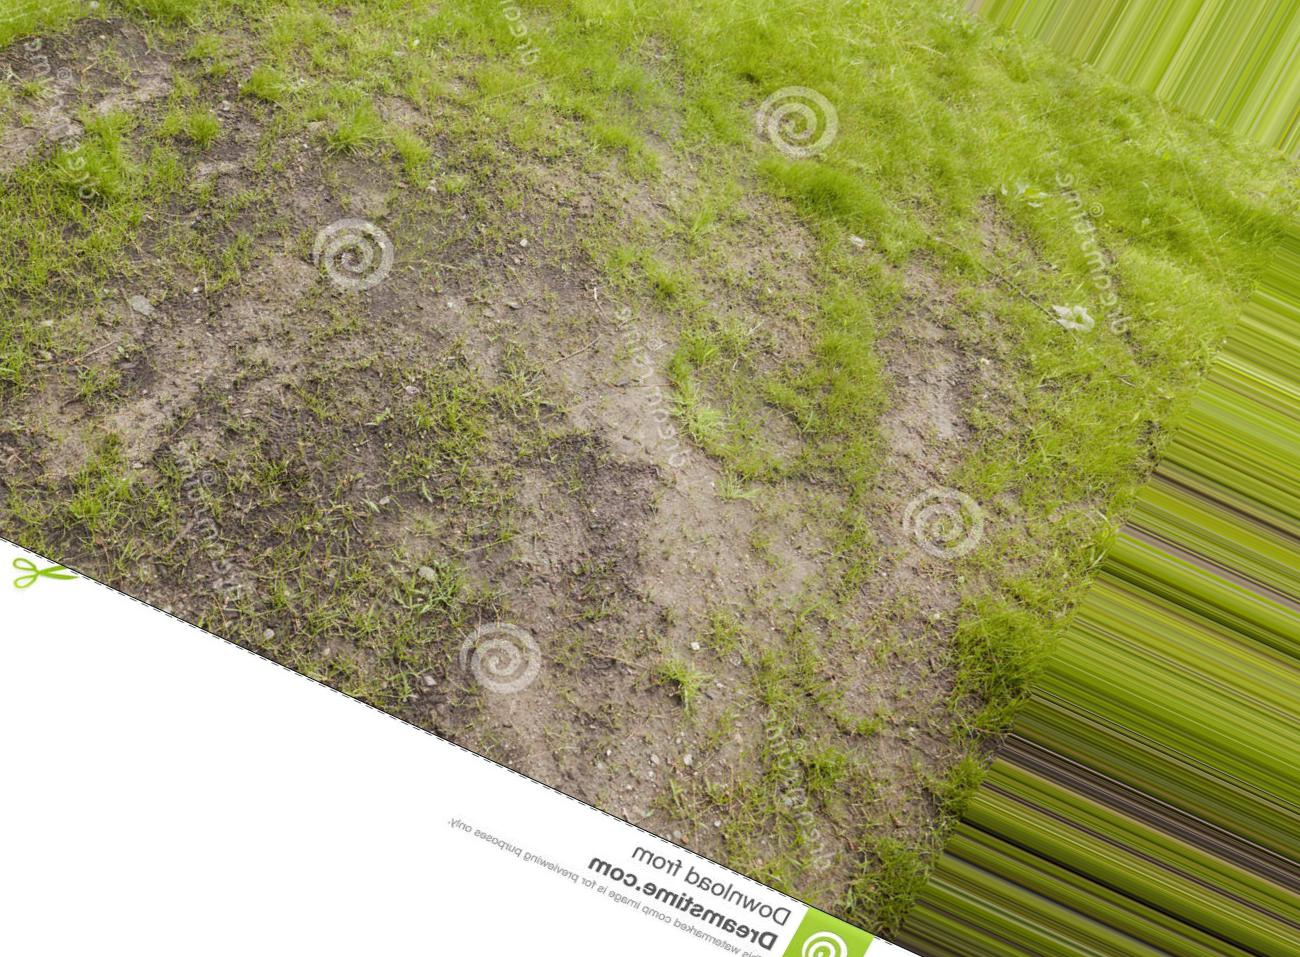patch: (466, 298, 911, 716)
